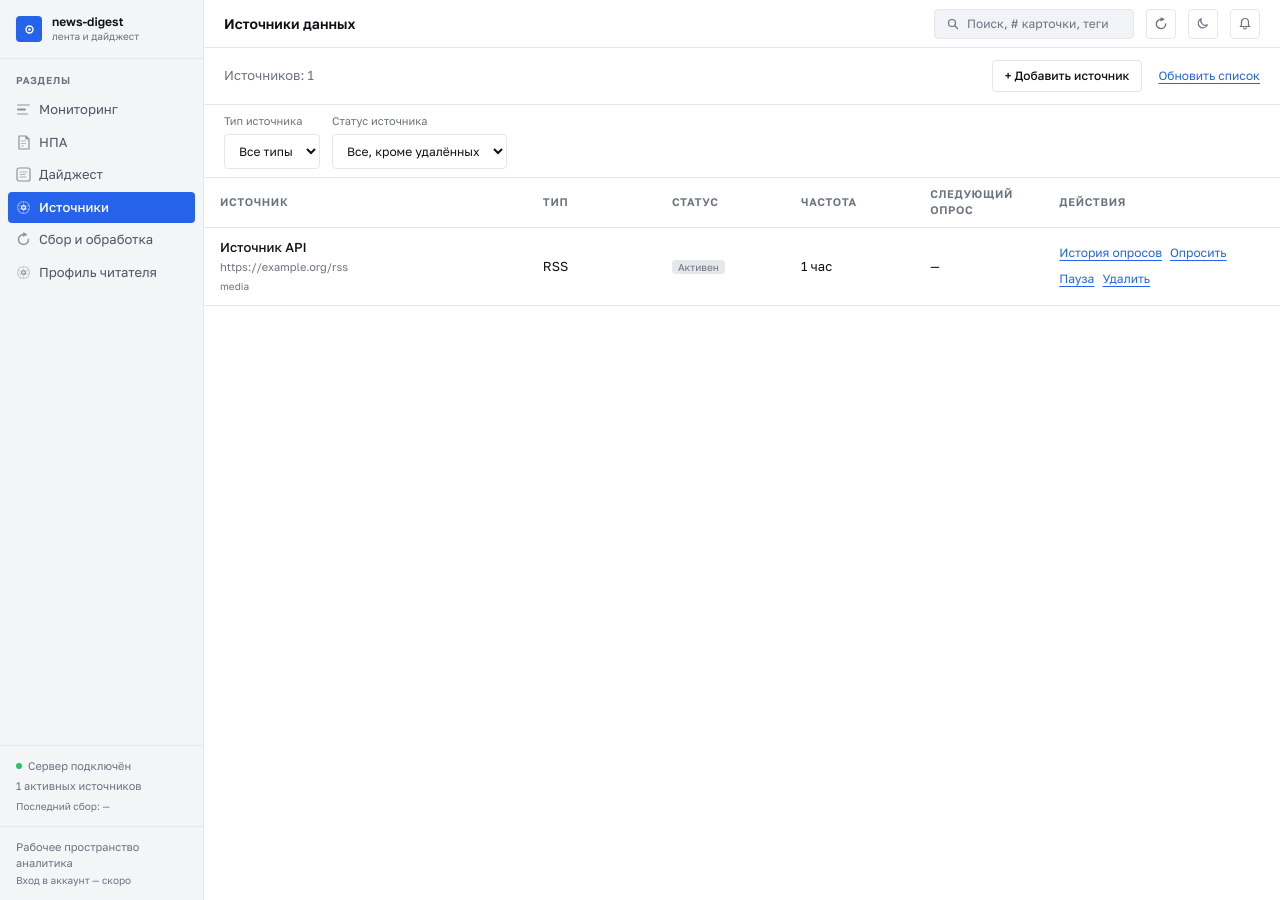
Test: source APIs › shows poll counts and reloads server status even for a failed run
Click the button "Опросить": click(1198, 253) [1170, 244, 1227, 262]
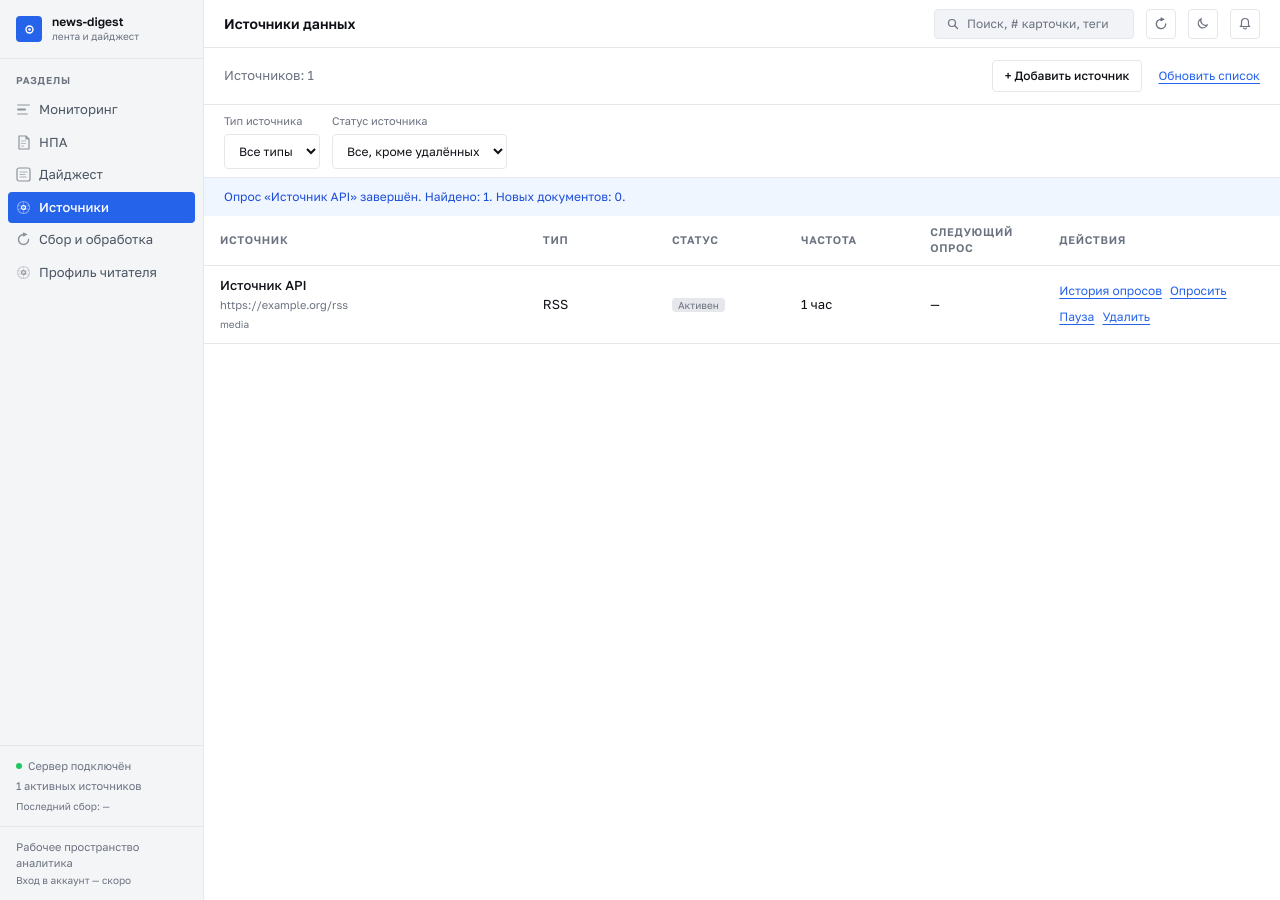
Result: the text "Найдено: 1. Новых документов: 0." is shown at [224, 188, 626, 204]
Click the button "Опросить": click(1198, 291) [1170, 282, 1227, 300]
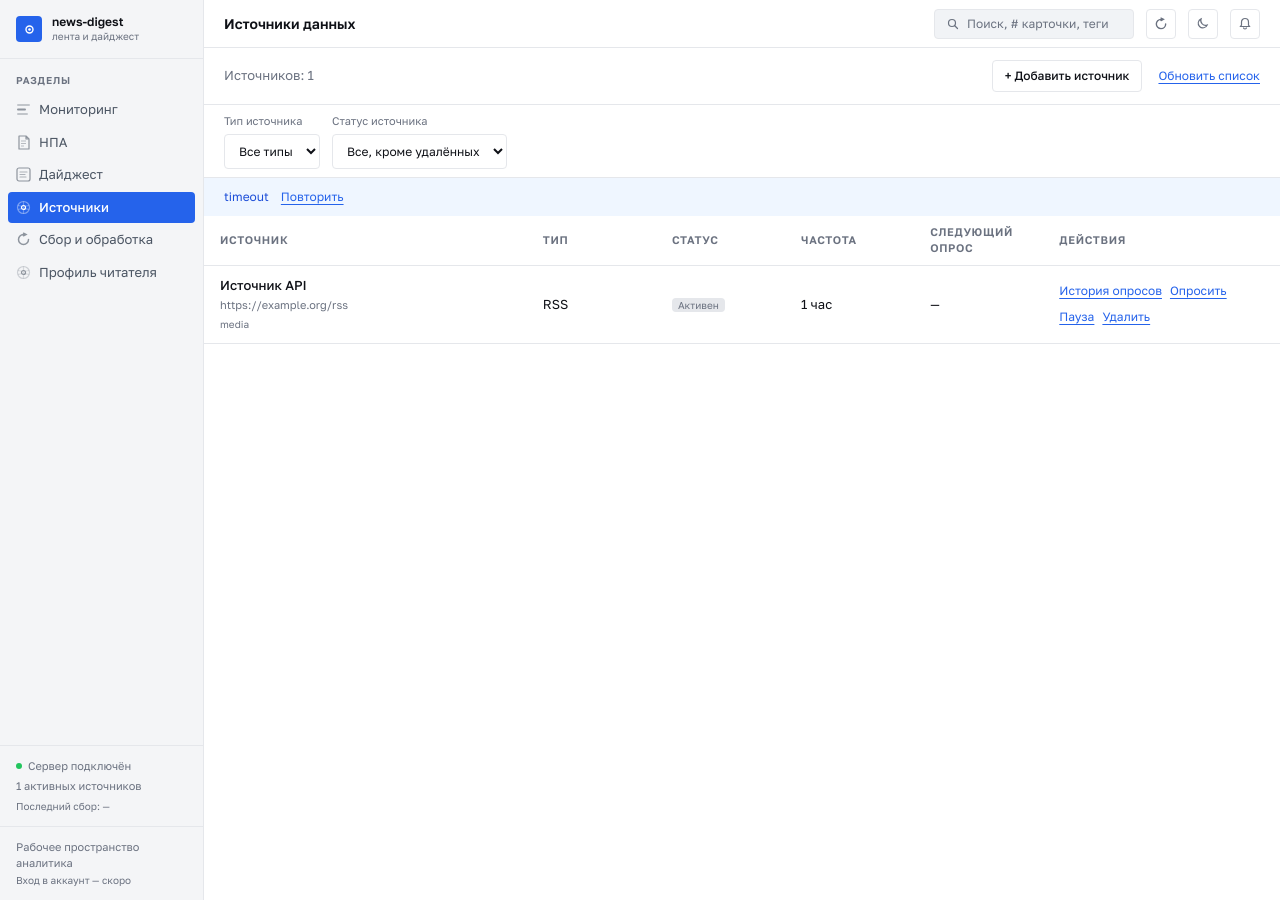
Result: the text "timeout" is shown at [224, 188, 269, 204]
Result: the text "завершён" is gone
